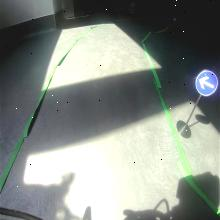left: (196, 69, 218, 98)
